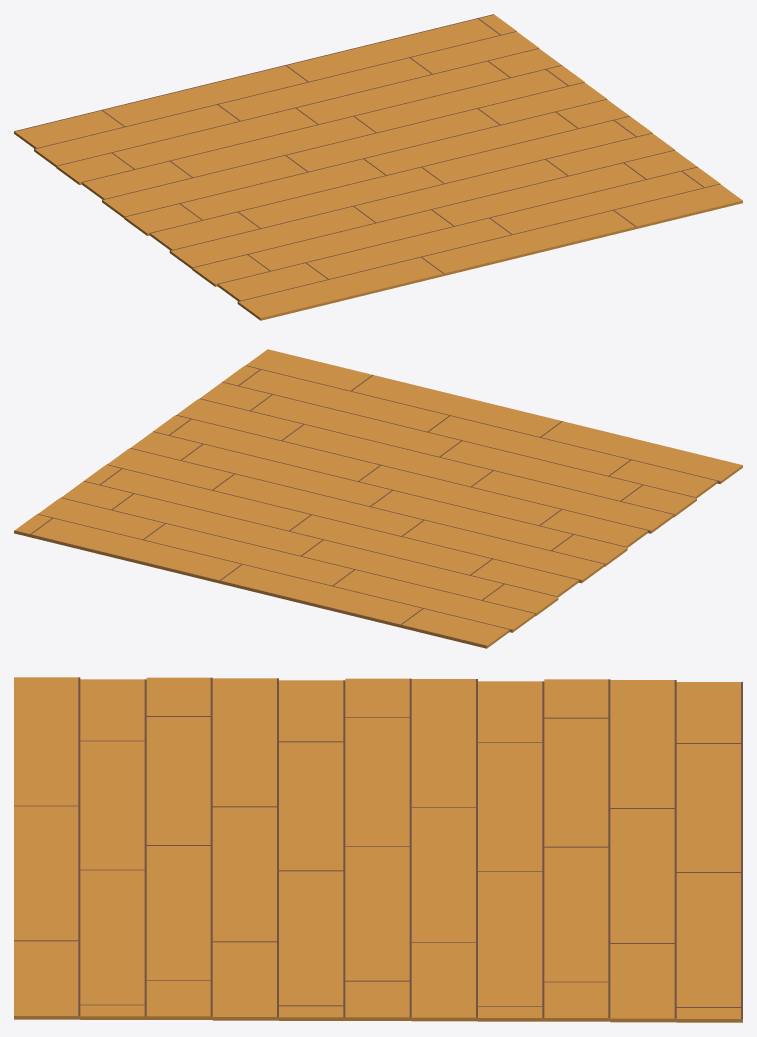
Rendered from Wood Floor.glb.
3 renders of one model, top to bottom at view 1: azimuth 30°, elevation 25°; view 2: azimuth 150°, elevation 25°; view 3: azimuth 270°, elevation 25°, orthographic. The views are drawn at different scales.
Parts seen in each view (by area): view 1: group2124208635, group1941367129, group1697498613, group1745354410, group176244983, group1205836072, group428381769, group586405494, group156735920, group1395910603, group326288606; view 2: group156735920, group176244983, group1205836072, group428381769, group2124208635, group1941367129, group1697498613, group1745354410, group586405494, group1395910603, group326288606; view 3: group2124208635, group428381769, group1697498613, group176244983, group1745354410, group1941367129, group1205836072, group1395910603, group586405494, group326288606, group156735920.
Boxes of the visible parts, box(x1,y1,x2,y2) form: group2124208635: box(237, 184, 742, 320); group1941367129: box(192, 150, 697, 286); group1697498613: box(124, 99, 629, 235); group1745354410: box(56, 48, 561, 184); group176244983: box(34, 31, 538, 167); group1205836072: box(102, 82, 606, 218); group428381769: box(169, 133, 674, 269); group586405494: box(149, 116, 652, 250); group156735920: box(14, 14, 516, 148); group1395910603: box(217, 167, 720, 301); group326288606: box(82, 65, 584, 199); group156735920: box(14, 514, 509, 648); group176244983: box(37, 498, 535, 632); group1205836072: box(107, 448, 604, 583); group428381769: box(176, 399, 673, 533); group2124208635: box(245, 349, 742, 483); group1941367129: box(199, 382, 696, 517); group1697498613: box(130, 432, 627, 566); group1745354410: box(61, 481, 558, 616); group586405494: box(153, 415, 647, 547); group1395910603: box(222, 365, 717, 497); group326288606: box(83, 465, 578, 597); group2124208635: box(14, 677, 80, 1019); group428381769: box(212, 678, 278, 1020); group1697498613: box(345, 678, 411, 1020); group176244983: box(610, 680, 676, 1022); group1745354410: box(544, 679, 610, 1021); group1941367129: box(146, 677, 212, 1019); group1205836072: box(411, 679, 477, 1021); group1395910603: box(80, 679, 146, 1019); group586405494: box(279, 680, 345, 1020); group326288606: box(478, 681, 544, 1021); group156735920: box(676, 682, 742, 1022).
Bounding box in the file's own units: 4.03 × 0.02 × 3.63.
